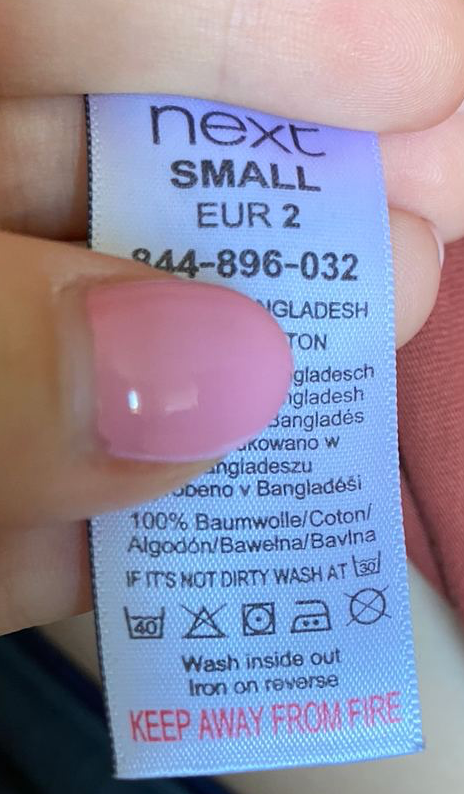do_not_bleach: (179, 598, 231, 643)
do_not_dry_clean: (338, 581, 396, 634)
ironing_at_med_temp: (286, 595, 336, 636)
tumble_drying_low_temps: (236, 595, 282, 642)
wash_at_or_below_30: (348, 547, 388, 580)
wash_at_or_below_40: (122, 601, 168, 647)
